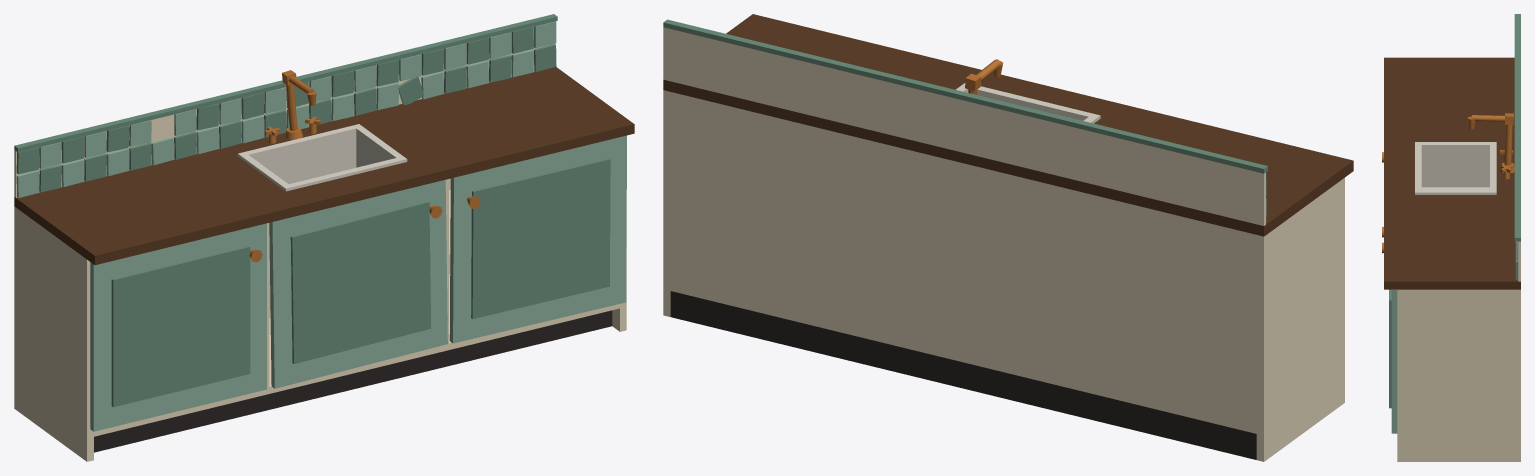
Rendered from Aanrecht.glb.
3 views of the same model, side by side, from view 1: azimuth 30°, elevation 25°; view 2: azimuth 150°, elevation 25°; view 3: azimuth 270°, elevation 25° (orthographic). The views are drawn at different scales.
Parts seen in each view (by area): view 1: Worktop, Carcass, Door1Panel, Door2Panel, Door3Panel, TilesSageDark, TilesSage, Door3, Door1, Door2, Plinth, Sink (+2 smaller); view 2: Carcass, BacksplashGrout, Worktop, Plinth, TilesSageDark, Sink; view 3: Worktop, Carcass, Sink, TilesSageDark, Door3, CopperParts, Door3Panel.
Part boxes in pixels (<box>): Worktop: <box>14,67,634,265</box>; Carcass: <box>14,178,626,461</box>; Door1Panel: <box>111,245,250,407</box>; Door2Panel: <box>290,201,431,363</box>; Door3Panel: <box>471,158,610,318</box>; TilesSageDark: <box>14,14,557,192</box>; TilesSage: <box>16,21,556,198</box>; Door3: <box>449,135,626,343</box>; Door1: <box>90,223,266,431</box>; Door2: <box>269,180,447,388</box>; Plinth: <box>94,310,612,452</box>; Sink: <box>237,124,407,191</box>; Carcass: <box>663,90,1344,461</box>; BacksplashGrout: <box>663,27,1265,225</box>; Worktop: <box>663,14,1353,236</box>; Plinth: <box>670,291,1256,459</box>; TilesSageDark: <box>663,19,1267,196</box>; Sink: <box>955,83,1100,123</box>; Worktop: <box>1384,57,1520,289</box>; Carcass: <box>1397,289,1520,461</box>; Sink: <box>1415,142,1496,194</box>; TilesSageDark: <box>1514,14,1520,280</box>; Door3: <box>1391,289,1397,433</box>; CopperParts: <box>1467,113,1514,179</box>; Door3Panel: <box>1389,289,1391,408</box>.
Size of the model in its own units: 2.4 by 1.17 by 0.629.
